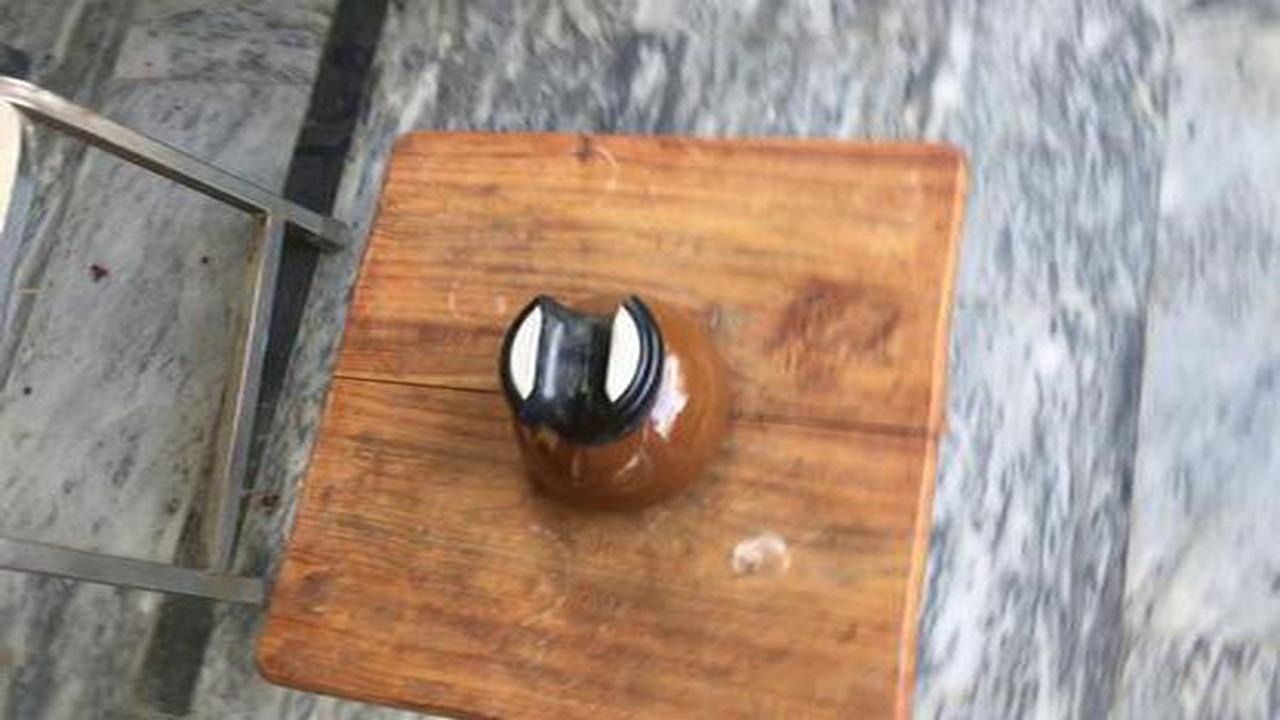insulator_pin: (477, 272, 754, 527)
